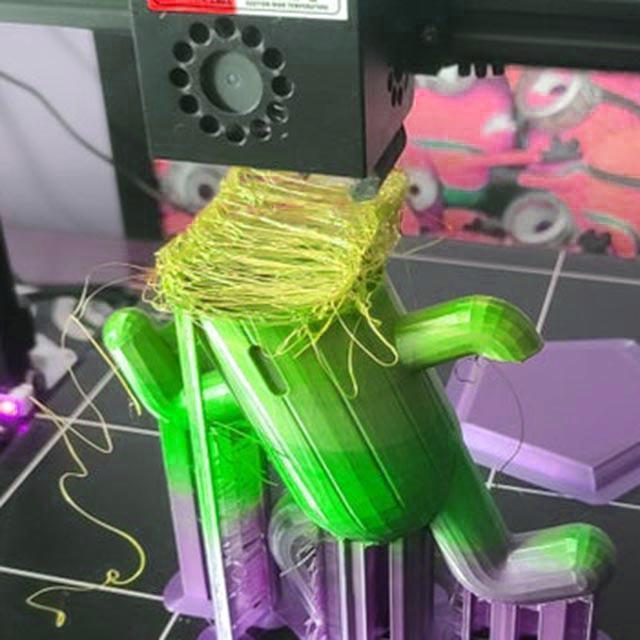spaghetti: (140, 165, 412, 399), (27, 261, 148, 629)
